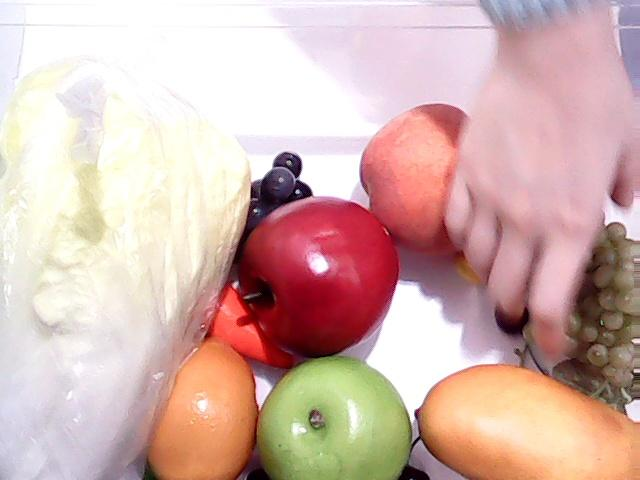apple: (224, 195, 404, 357), (258, 360, 412, 480)
carrot: (207, 282, 305, 368)
grape: (570, 240, 640, 388), (254, 141, 318, 197)
lemon: (153, 330, 279, 480)
mango: (416, 364, 640, 480)
napa cabbage: (0, 54, 222, 480)
peach: (359, 100, 495, 264)
